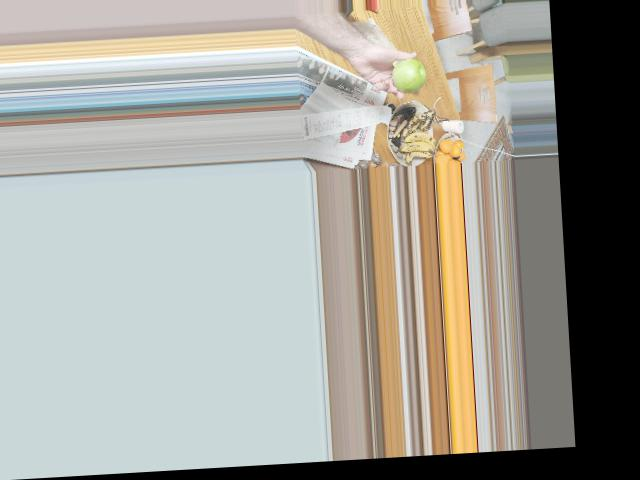apple: (389, 59, 426, 90)
